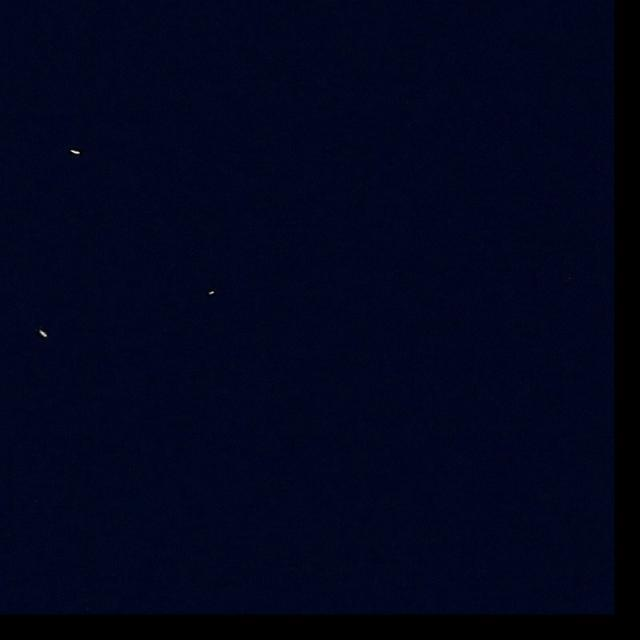ship: (38, 328, 48, 338), (70, 150, 80, 154), (209, 290, 214, 295)
